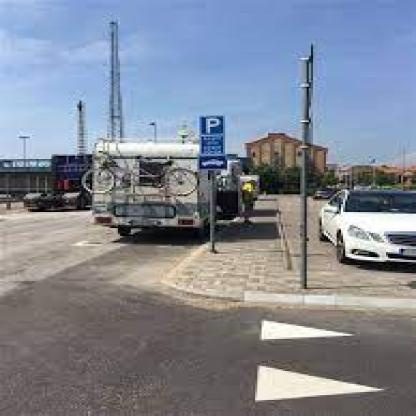P-skylt: (198, 114, 226, 137)
